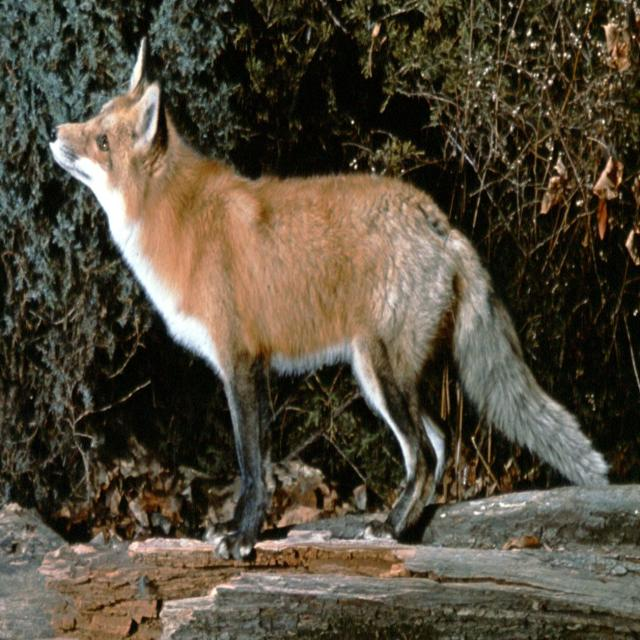Fox: (51, 41, 591, 538)
